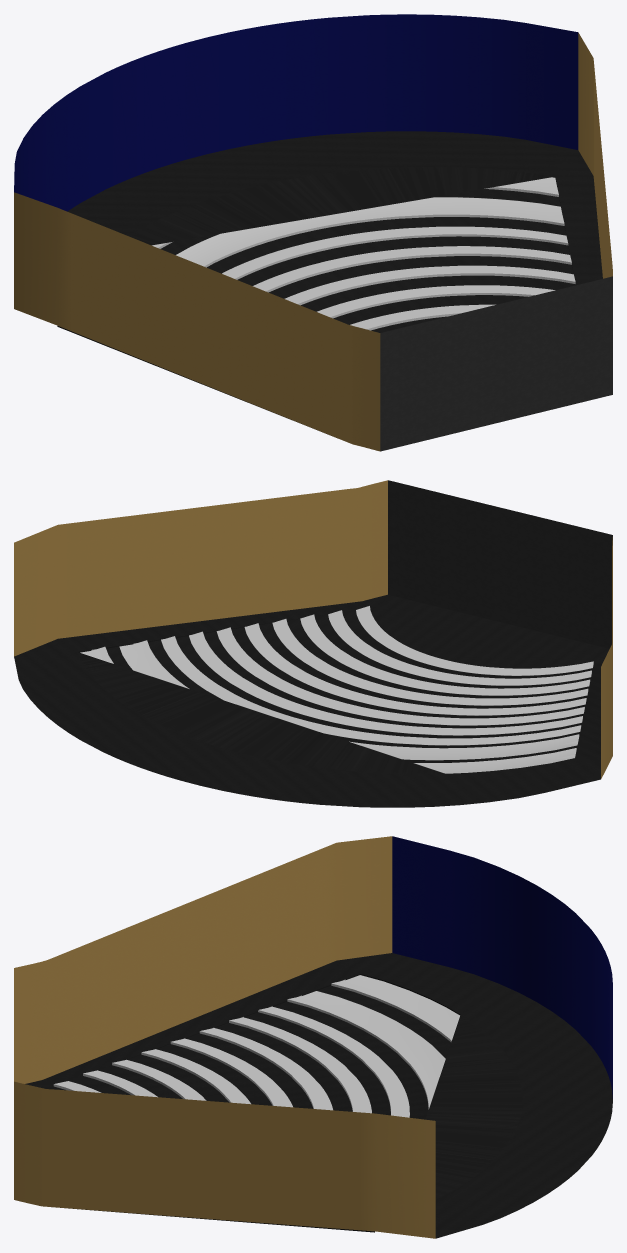
Rendered from Model_Structure.fbx.
3 views of the same model, one above another, from view 1: azimuth 30°, elevation 25°; view 2: azimuth 150°, elevation 25°; view 3: azimuth 270°, elevation 25° (orthographic). The views are drawn at different scales.
Visible parts, largest first — view 1: edificio; view 2: edificio; view 3: edificio.
Boxes of the visible parts, <box> form: edificio: <box>14,14,612,451</box>; edificio: <box>14,480,612,807</box>; edificio: <box>14,836,612,1238</box>.
Bounding box in the file's own units: 44900 × 12090 × 39766.
